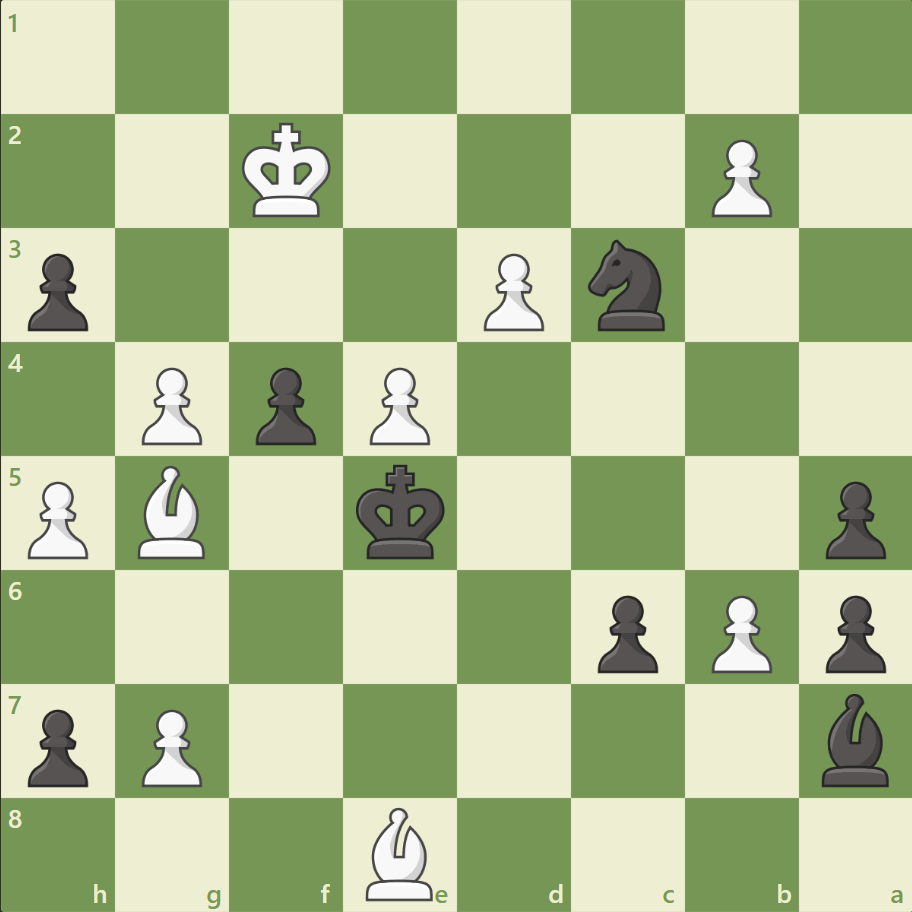B: (358, 801, 442, 904), (131, 460, 215, 563)
K: (238, 117, 338, 225)
P: (133, 700, 208, 791), (701, 586, 776, 677), (20, 473, 95, 564), (133, 359, 208, 450), (474, 246, 549, 337), (701, 132, 776, 223), (361, 359, 435, 450)
b: (812, 687, 896, 790)
k: (351, 458, 451, 566)
n: (579, 234, 676, 337)
p: (20, 700, 95, 791), (247, 359, 322, 450), (20, 246, 95, 337), (815, 586, 889, 677), (588, 586, 662, 677), (815, 473, 889, 564)
